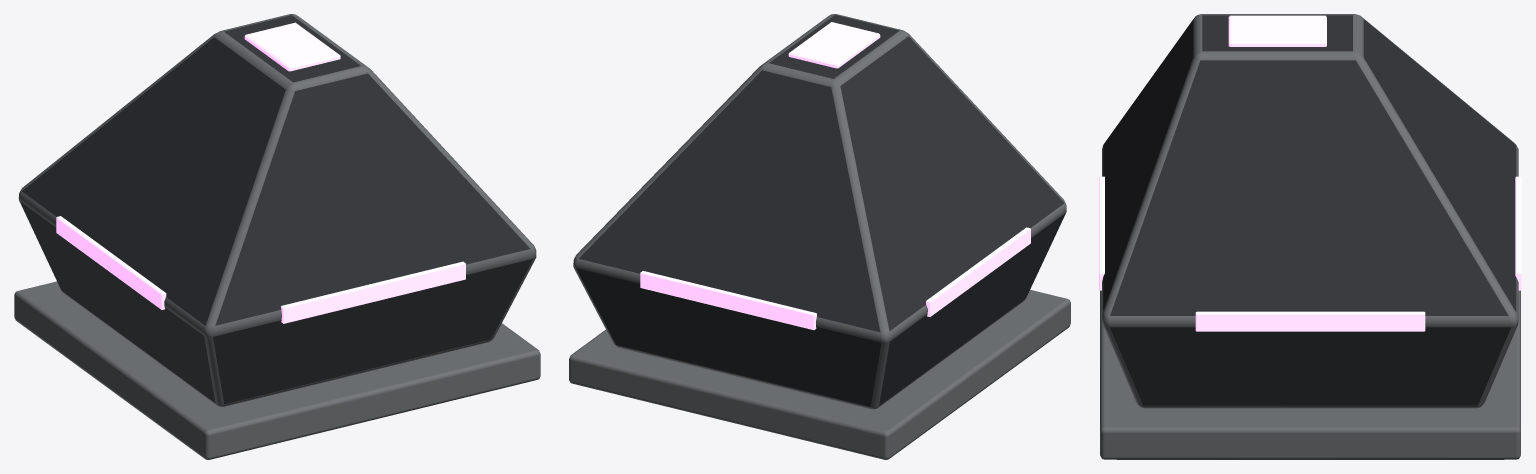
Rendered from R4X_Stealth.glb.
3 renders of one model, left to right at view 1: azimuth 30°, elevation 25°; view 2: azimuth 150°, elevation 25°; view 3: azimuth 270°, elevation 25°, orthographic. The views are drawn at different scales.
Parts seen in each view (by area): view 1: R4X_Stealth_Body; view 2: R4X_Stealth_Body; view 3: R4X_Stealth_Body.
Part boxes in pixels (left/top/right/bottom): R4X_Stealth_Body: left=14, top=14, right=540, bottom=459; R4X_Stealth_Body: left=569, top=14, right=1070, bottom=459; R4X_Stealth_Body: left=1099, top=14, right=1521, bottom=459.
Bounding box in the file's own units: 0.516 × 0.466 × 0.516.
